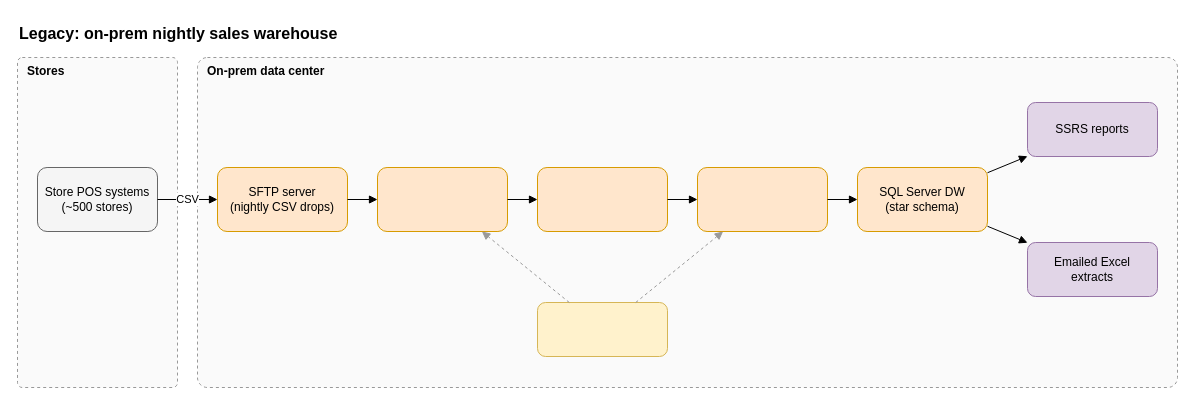
The diagram is 1195 pixels wide and 405 high, and some of its shapes have lost their labels. The shapes that lost their labels are listed below. From the top down, each one's centre as x and y in pixels, then its label:
At pixel 442 199: "SSIS packages (load + cleanse)".
At pixel 602 199: "SQL Server staging DB".
At pixel 762 199: "Stored procedures (transform)".
At pixel 602 329: "SQL Server Agent (schedules)".
